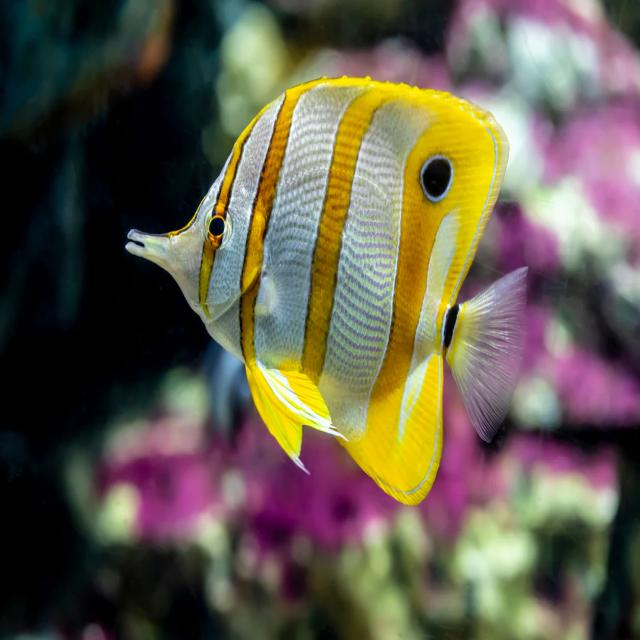ButterflyFish: (120, 73, 522, 508)
